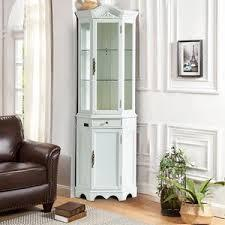Indoor Plant: (156, 149, 188, 217), (182, 177, 224, 223)
book: (55, 200, 86, 223)
cabinet: (75, 5, 138, 200)
carpet: (0, 205, 158, 225)
curtain: (25, 1, 49, 142)
painting: (176, 40, 203, 76)
sofa: (0, 116, 59, 212)
window: (1, 0, 24, 115)
